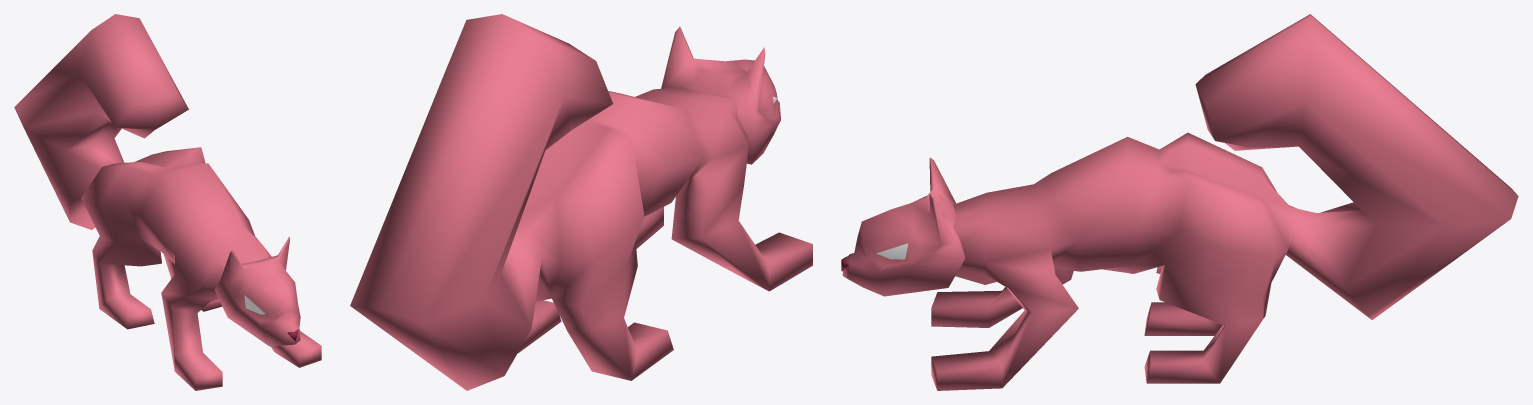
Rendered from Squirrel_Main (1).fbx.
3 renders of one model, left to right at view 1: azimuth 30°, elevation 25°; view 2: azimuth 150°, elevation 25°; view 3: azimuth 270°, elevation 25°, orthographic. The views are drawn at different scales.
Parts seen in each view (by area): view 1: Cube.002; view 2: Cube.002; view 3: Cube.002.
Part boxes in pixels (<box>): Cube.002: <box>14,14,321,390</box>; Cube.002: <box>350,14,812,390</box>; Cube.002: <box>841,14,1518,390</box>.
Bounding box in the file's own units: 102 × 199 × 364.
